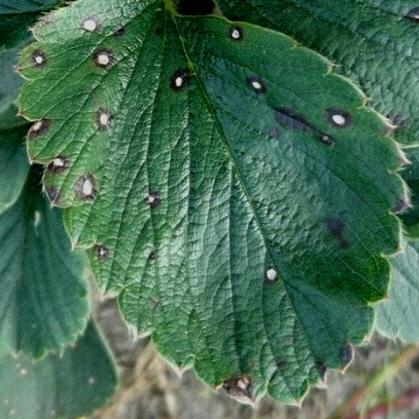Leaf Spot: (15, 0, 409, 408), (0, 311, 118, 418)
